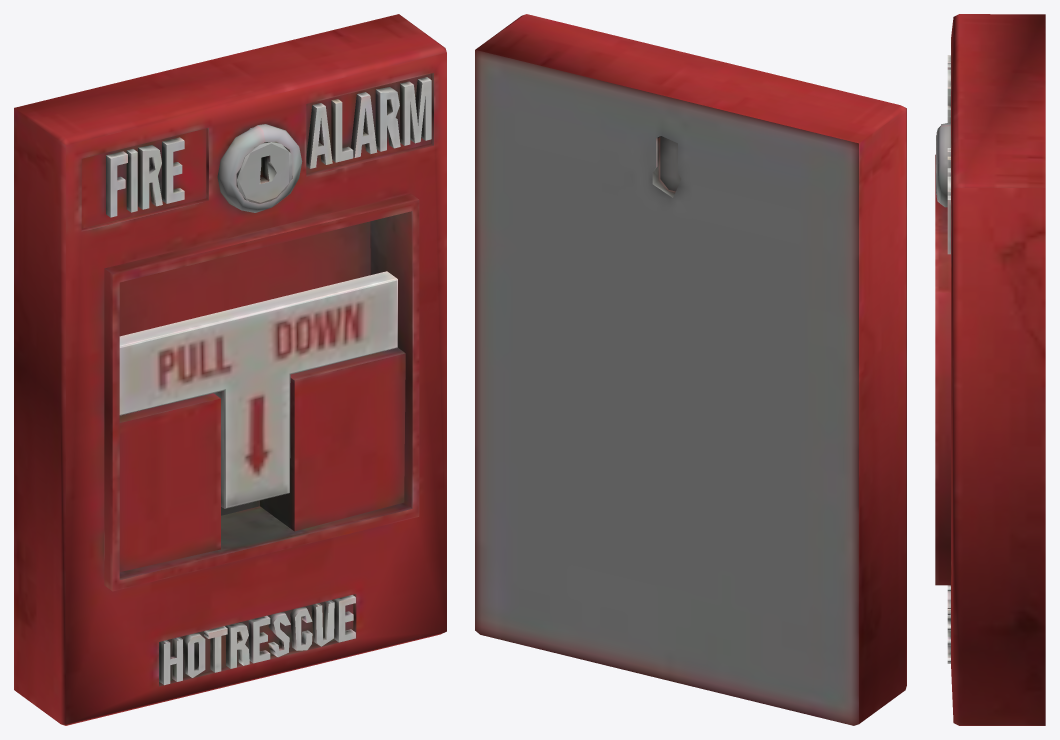
File: fire_alarm.glb
3 renders of one model, left to right at view 1: azimuth 30°, elevation 25°; view 2: azimuth 150°, elevation 25°; view 3: azimuth 270°, elevation 25°, orthographic. The views are drawn at different scales.
Visible parts, largest first — view 1: fire_alarm, fire_alarm_lever; view 2: fire_alarm; view 3: fire_alarm.
Boxes of the visible parts, <box> form: fire_alarm: <box>14,14,446,725</box>; fire_alarm_lever: <box>119,271,397,508</box>; fire_alarm: <box>475,14,906,725</box>; fire_alarm: <box>935,14,1045,725</box>.
Size of the model in its own units: 0.0984 by 0.1436 by 0.0264.
Materials: 1 (1 with a texture image).
